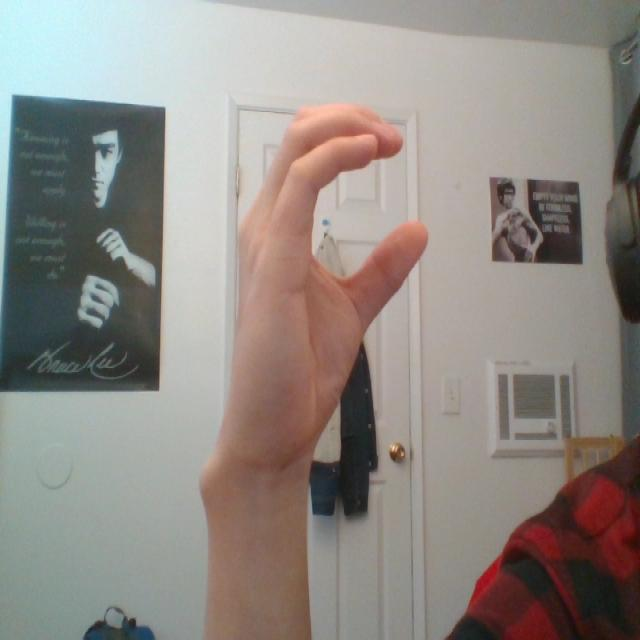C: (167, 64, 449, 487)
